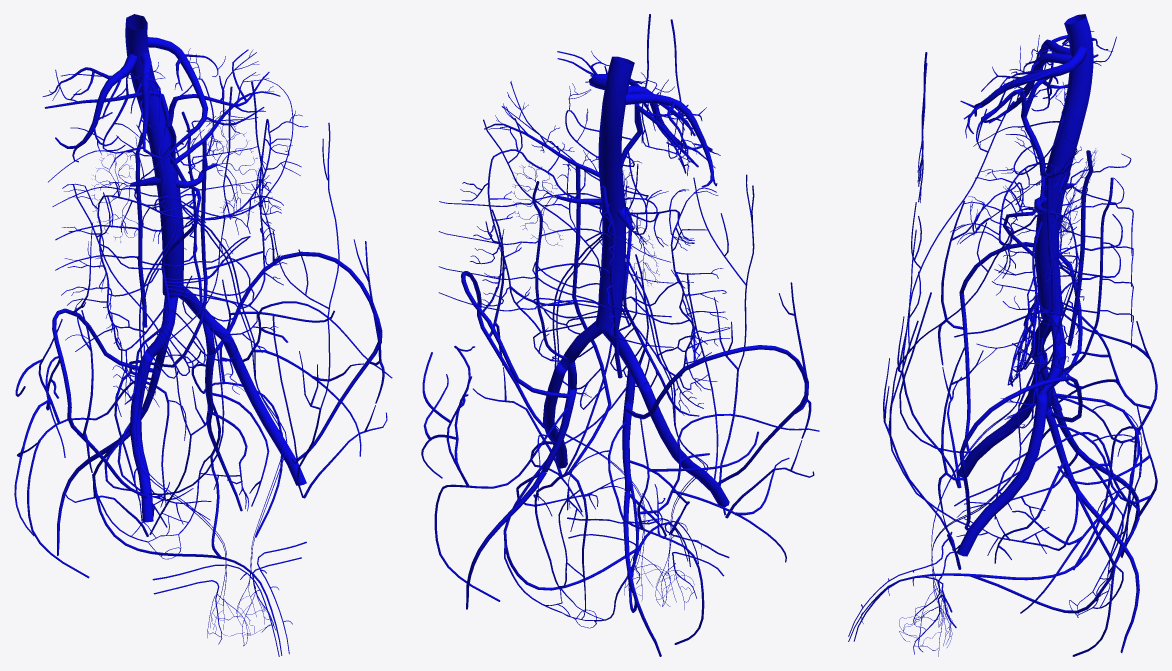
Rendered from GI_tract_and_Sexual_organs_veins.fbx.
The picture shows the model from 3 angles, left to right: view 1: azimuth 30°, elevation 25°; view 2: azimuth 150°, elevation 25°; view 3: azimuth 270°, elevation 25°; orthographic projection. The views are drawn at different scales.
Parts seen in each view (by area): view 1: Veina_cava_new, Superior_gluteal_L, Superior_gluteal_R, External_iliac_L, External_iliac_R, Jejunal_and_ileal_branches, Middle_colic, Hepatic_vein_L, Hepatic_vein_R, Hepatic_portal_R, Gonadal_R, Gonadal_L (+21 smaller); view 2: Veina_cava_new, Superior_gluteal_R, Superior_gluteal_L, External_iliac_R, Hepatic_vein_R, Middle_colic, Superior_rectal, Iliolumbar_R, Iliolumbar_L, Marginal, External_iliac_L, Hepatic_portal_R (+23 smaller); view 3: Veina_cava_new, Superior_gluteal_L, External_iliac_L, Superior_gluteal_R, Hepatic_vein_L, Middle_colic, External_iliac_R, Iliolumbar_L, Deep_circumflex_iliac_R, Superior_rectal, Marginal, Jejunal_and_ileal_branches (+29 smaller).
Boxes of the visible parts, <box> form: Veina_cava_new: <box>125,14,183,298</box>; Superior_gluteal_L: <box>191,279,392,537</box>; Superior_gluteal_R: <box>14,319,150,578</box>; External_iliac_L: <box>221,333,306,485</box>; External_iliac_R: <box>130,350,153,522</box>; Jejunal_and_ileal_branches: <box>124,236,254,404</box>; Middle_colic: <box>62,114,308,253</box>; Hepatic_vein_L: <box>147,37,264,164</box>; Hepatic_vein_R: <box>42,54,137,162</box>; Hepatic_portal_R: <box>44,62,171,151</box>; Gonadal_R: <box>136,221,226,571</box>; Gonadal_L: <box>180,203,287,565</box>; Veina_cava_new: <box>595,56,634,331</box>; Superior_gluteal_R: <box>608,413,819,644</box>; Superior_gluteal_L: <box>421,345,567,601</box>; External_iliac_R: <box>638,382,729,507</box>; Hepatic_vein_R: <box>625,93,720,187</box>; Middle_colic: <box>488,126,718,257</box>; Superior_rectal: <box>533,404,611,611</box>; Iliolumbar_R: <box>625,269,808,419</box>; Iliolumbar_L: <box>461,229,569,398</box>; Marginal: <box>460,149,541,332</box>; External_iliac_L: <box>543,361,567,468</box>; Hepatic_portal_R: <box>634,72,706,175</box>; Veina_cava_new: <box>1035,14,1093,318</box>; Superior_gluteal_L: <box>954,404,1157,656</box>; External_iliac_L: <box>957,393,1047,556</box>; Superior_gluteal_R: <box>954,307,1157,570</box>; Hepatic_vein_L: <box>960,46,1087,138</box>; Middle_colic: <box>950,127,1083,280</box>; External_iliac_R: <box>956,353,1047,477</box>; Iliolumbar_L: <box>959,278,1082,452</box>; Deep_circumflex_iliac_R: <box>938,200,983,451</box>; Superior_rectal: <box>1052,393,1141,584</box>; Marginal: <box>1014,211,1084,380</box>; Jejunal_and_ileal_branches: <box>1007,277,1062,386</box>.
Bounding box in the file's own units: 27.41 × 44.9 × 20.36.
